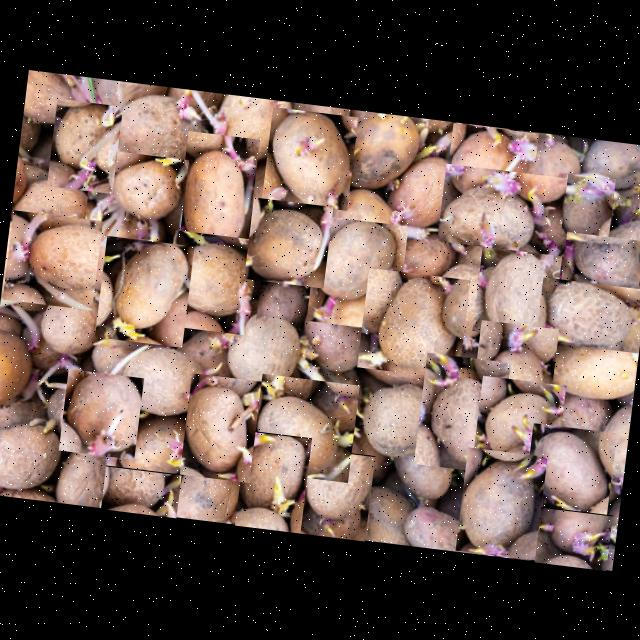Sprouted potato: (437, 163, 581, 257), (357, 268, 470, 380), (250, 373, 359, 482), (306, 215, 408, 331), (413, 352, 510, 473), (82, 148, 188, 255), (94, 235, 194, 348), (162, 230, 265, 336), (106, 82, 211, 184), (174, 130, 260, 254), (455, 447, 547, 560), (468, 320, 558, 434), (522, 422, 616, 530), (261, 106, 358, 210), (472, 232, 564, 341), (2, 210, 102, 310), (220, 304, 316, 408), (471, 375, 566, 479), (376, 134, 466, 240), (179, 372, 261, 482), (283, 446, 375, 541), (322, 180, 416, 270), (111, 342, 218, 421), (234, 430, 312, 533), (244, 197, 332, 288), (535, 277, 640, 353), (58, 368, 144, 459), (444, 123, 538, 205), (354, 376, 442, 462), (342, 110, 428, 196), (46, 98, 122, 194), (206, 93, 298, 168), (110, 412, 204, 482), (428, 260, 496, 355), (560, 231, 640, 298), (534, 506, 612, 570), (100, 465, 182, 518), (560, 174, 615, 242)
